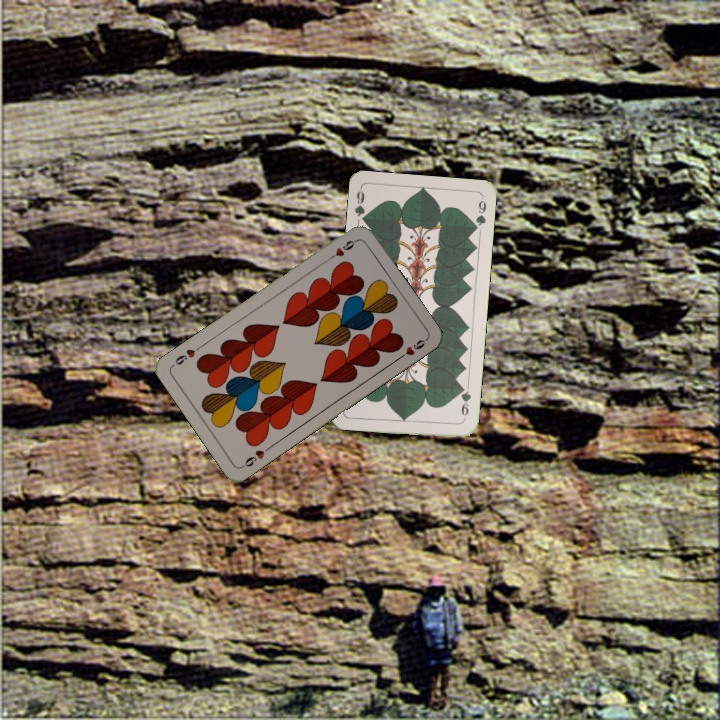G9: (350, 185, 369, 226), (457, 382, 474, 423)
H9: (238, 442, 273, 470), (324, 236, 360, 263)
